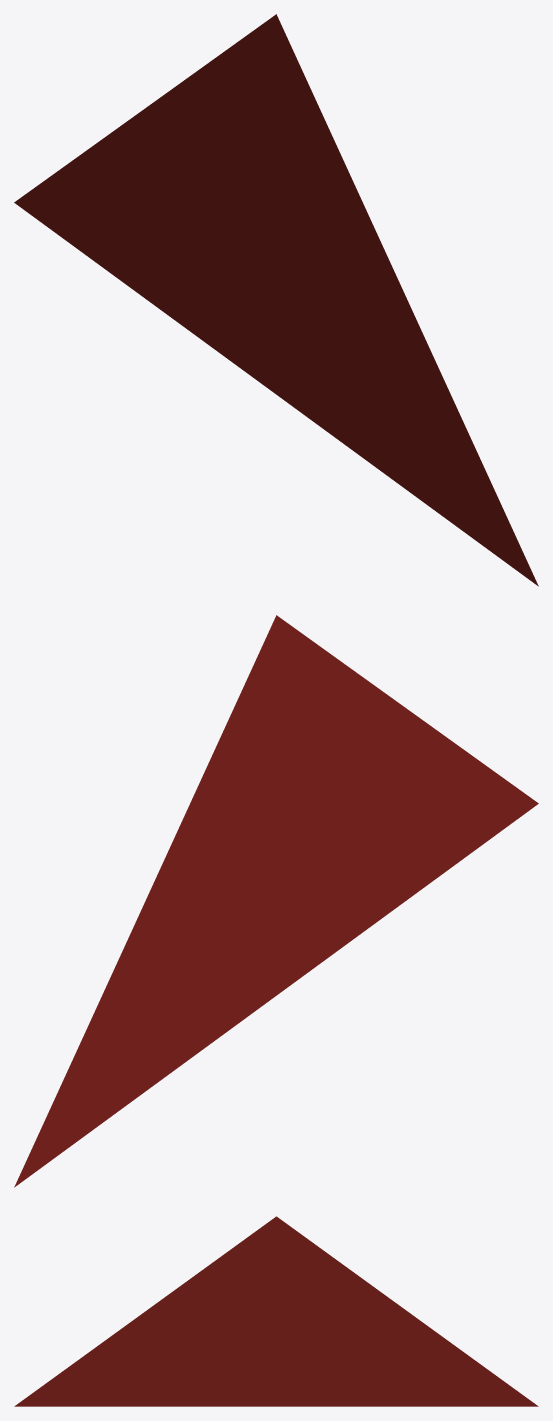
Rendered from SM_15_Gable_West.fbx.
3 renders of one model, top to bottom at view 1: azimuth 30°, elevation 25°; view 2: azimuth 150°, elevation 25°; view 3: azimuth 270°, elevation 25°, orthographic. The views are drawn at different scales.
Parts seen in each view (by area): view 1: Gable_West; view 2: Gable_West; view 3: Gable_West.
Part boxes in pixels (<box>): Gable_West: <box>14,14,538,586</box>; Gable_West: <box>14,615,538,1187</box>; Gable_West: <box>14,1216,538,1406</box>.
Bounding box in the file's own units: 8.74e-05 × 1000 × 400.
